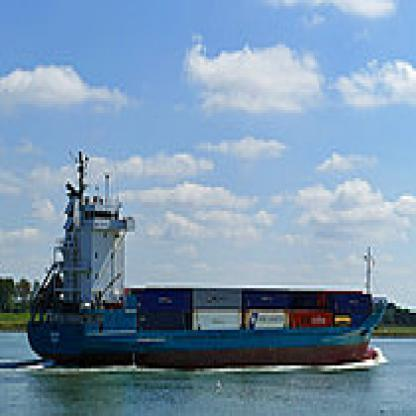Container Ship: (25, 148, 389, 369)
